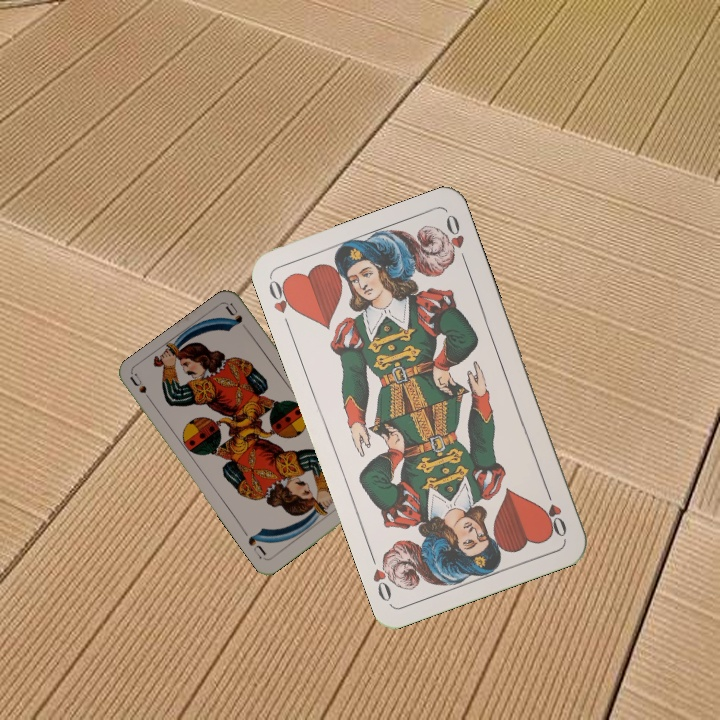HO: (264, 275, 299, 332), (541, 483, 570, 540)
SU: (127, 370, 157, 408)
